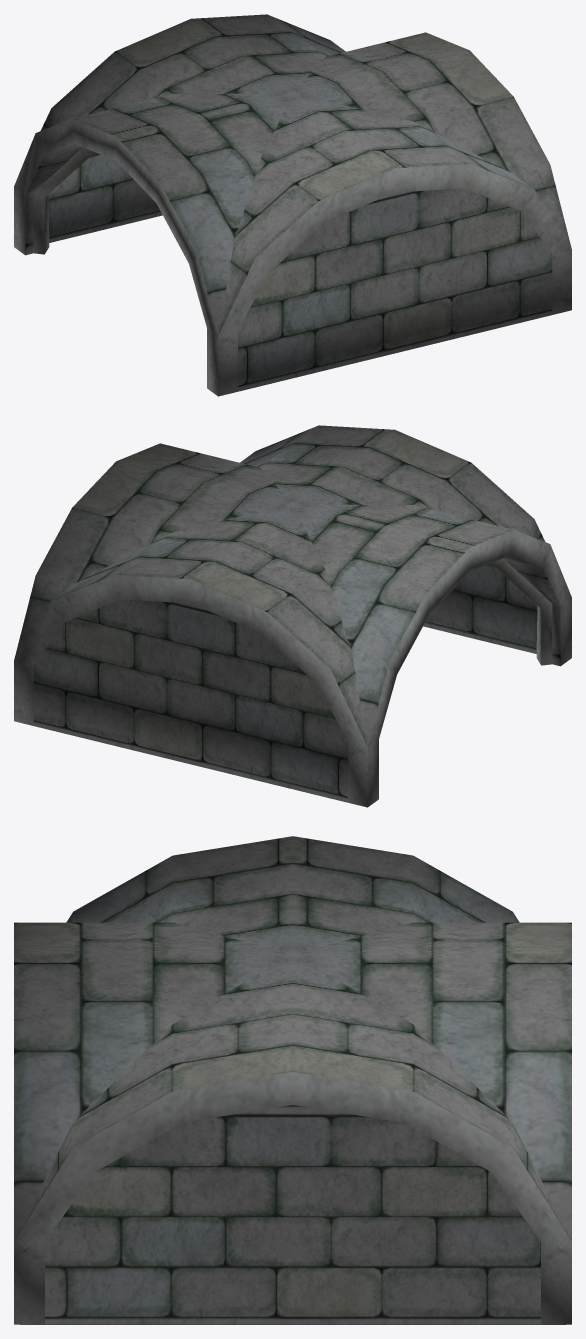
Rendered from vault_ceiling_large_05.glb.
3 renders of one model, top to bottom at view 1: azimuth 30°, elevation 25°; view 2: azimuth 150°, elevation 25°; view 3: azimuth 270°, elevation 25°, orthographic. The views are drawn at different scales.
Parts seen in each view (by area): view 1: vault_ceiling_large_05; view 2: vault_ceiling_large_05; view 3: vault_ceiling_large_05.
Part boxes in pixels (left/top/right/bottom): vault_ceiling_large_05: left=14, top=14, right=571, bottom=396; vault_ceiling_large_05: left=14, top=425, right=571, bottom=807; vault_ceiling_large_05: left=14, top=836, right=571, bottom=1324.
Size of the model in its own units: 4 by 2 by 4.
1 material, 1 textured.
